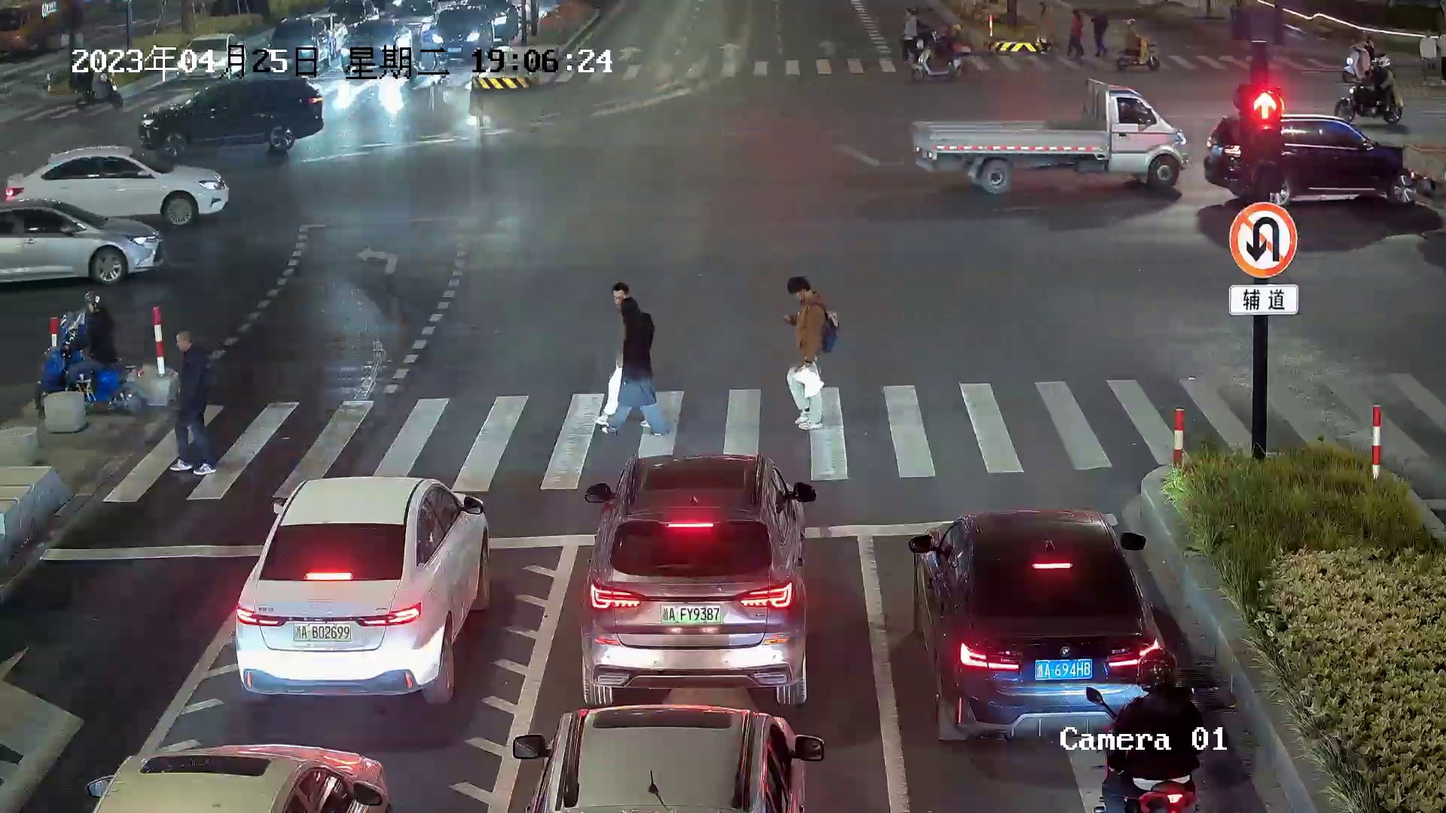person: (1099, 645, 1206, 790), (776, 269, 847, 437), (161, 328, 222, 477), (609, 297, 667, 435), (64, 288, 117, 392), (596, 279, 630, 428)
vehicle: (229, 470, 496, 714), (905, 501, 1166, 745), (576, 450, 819, 711), (905, 74, 1192, 199), (513, 707, 828, 811), (85, 735, 392, 811), (1209, 109, 1400, 205), (8, 145, 232, 221), (139, 77, 324, 152), (0, 199, 167, 282), (35, 309, 150, 421), (1332, 74, 1408, 125), (432, 5, 497, 61)
